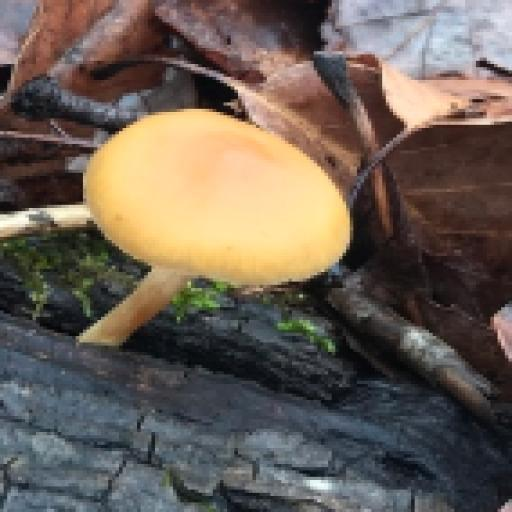mushroom: (40, 60, 367, 347)
